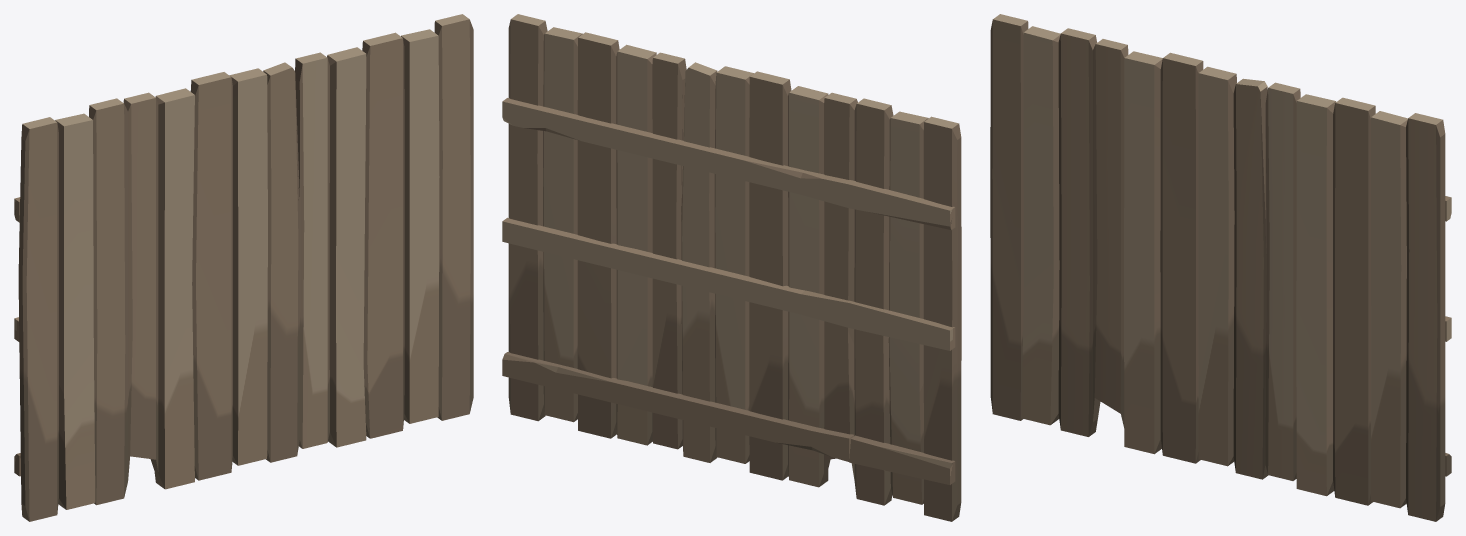
Rendered from SM_Prop_Fence_Wood_Straight_03.obj.
3 views of the same model, side by side, from view 1: azimuth 30°, elevation 25°; view 2: azimuth 150°, elevation 25°; view 3: azimuth 330°, elevation 25° (orthographic).
Visible parts, largest first — view 1: SM_Prop_Fence_Wood_Straight_03_0; view 2: SM_Prop_Fence_Wood_Straight_03_0; view 3: SM_Prop_Fence_Wood_Straight_03_0.
Part boxes in pixels (left/top/right/bottom): SM_Prop_Fence_Wood_Straight_03_0: left=14, top=14, right=473, bottom=521; SM_Prop_Fence_Wood_Straight_03_0: left=502, top=14, right=961, bottom=521; SM_Prop_Fence_Wood_Straight_03_0: left=990, top=14, right=1451, bottom=521.
Bounding box in the file's own units: 2.51 × 2.11 × 0.1592.
1 material, 1 textured.
